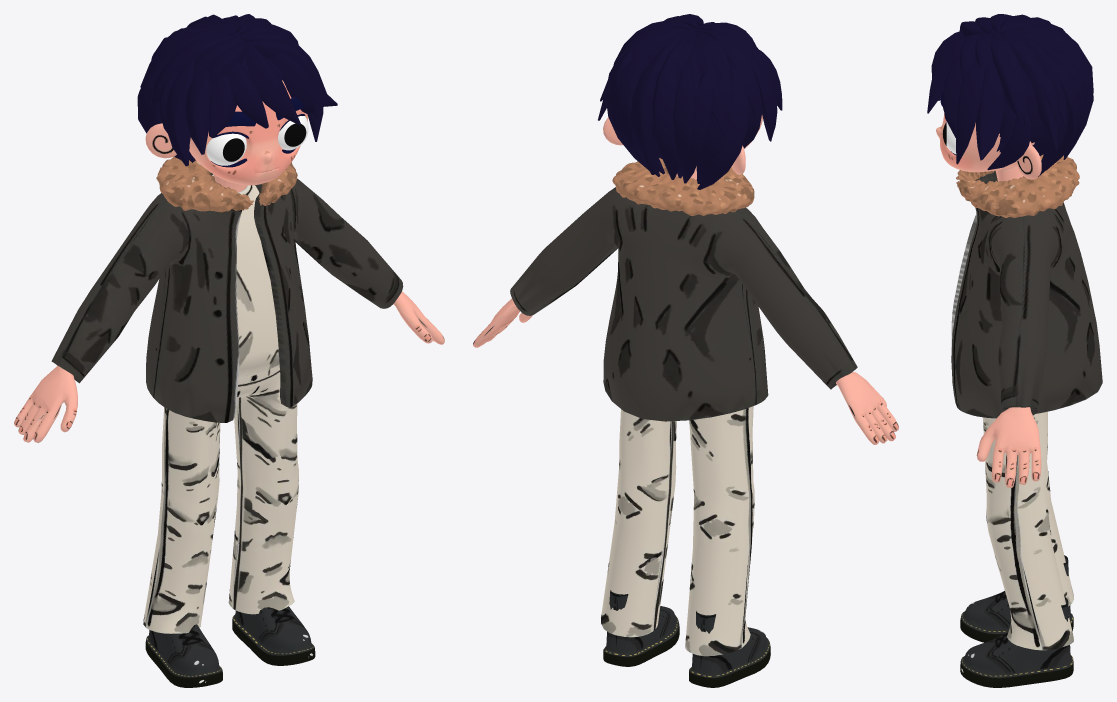
File: Rilo.glb
3 views of the same model, side by side, from view 1: azimuth 30°, elevation 25°; view 2: azimuth 150°, elevation 25°; view 3: azimuth 270°, elevation 25° (orthographic).
Parts seen in each view (by area): view 1: Jacket, Pants, Eyelid.R, Shoes, Shirt, Face, Body, Fur, Eye.L; view 2: Jacket, Pants, Eyelid.R, Shoes, Fur, Body, Cap, Face; view 3: Jacket, Eyelid.R, Pants, Shoes, Fur, Body, Face, Cap.
Part boxes in pixels (left/top/right/bottom): Jacket: left=51, top=173, right=403, bottom=422; Pants: left=143, top=364, right=298, bottom=633; Eyelid.R: left=137, top=14, right=337, bottom=166; Shoes: left=145, top=606, right=315, bottom=687; Shirt: left=212, top=174, right=279, bottom=376; Face: left=145, top=80, right=307, bottom=192; Body: left=14, top=291, right=444, bottom=442; Fur: left=156, top=157, right=297, bottom=212; Eye.L: left=206, top=116, right=308, bottom=165; Jacket: left=510, top=187, right=857, bottom=421; Pants: left=601, top=406, right=754, bottom=656; Eyelid.R: left=598, top=14, right=782, bottom=189; Shoes: left=603, top=590, right=770, bottom=687; Fur: left=612, top=158, right=754, bottom=215; Body: left=473, top=298, right=898, bottom=444; Cap: left=638, top=28, right=731, bottom=158; Face: left=603, top=115, right=762, bottom=179; Jacket: left=951, top=170, right=1102, bottom=418; Eyelid.R: left=927, top=14, right=1093, bottom=176; Pants: left=982, top=411, right=1073, bottom=650; Shoes: left=960, top=555, right=1073, bottom=687; Fur: left=956, top=154, right=1079, bottom=217; Body: left=976, top=407, right=1041, bottom=487; Face: left=936, top=93, right=1041, bottom=181; Cap: left=984, top=25, right=1067, bottom=155.
Size of the model in its own units: 4.16 by 6.05 by 1.53.
Materials: 8 (7 with a texture image).
